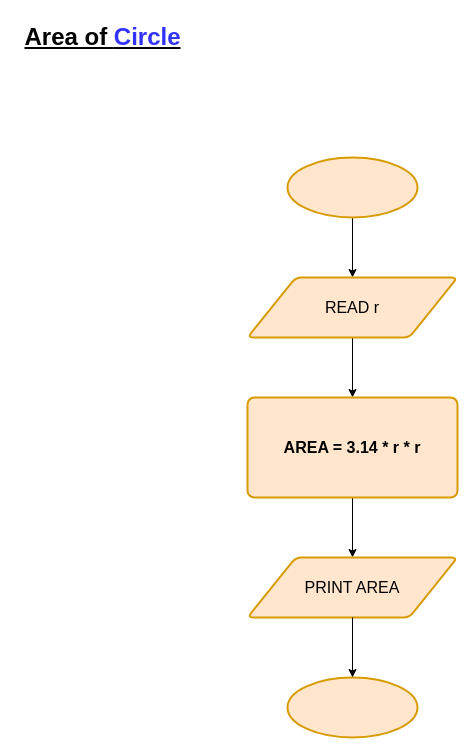
The diagram is 475 pixels wide and 755 high, and some of its shapes have lost their labels. Here are the shapes that lost their labels. From the top down, the centre of each, then its label:
the point at 352,187: Start
the point at 352,707: End
